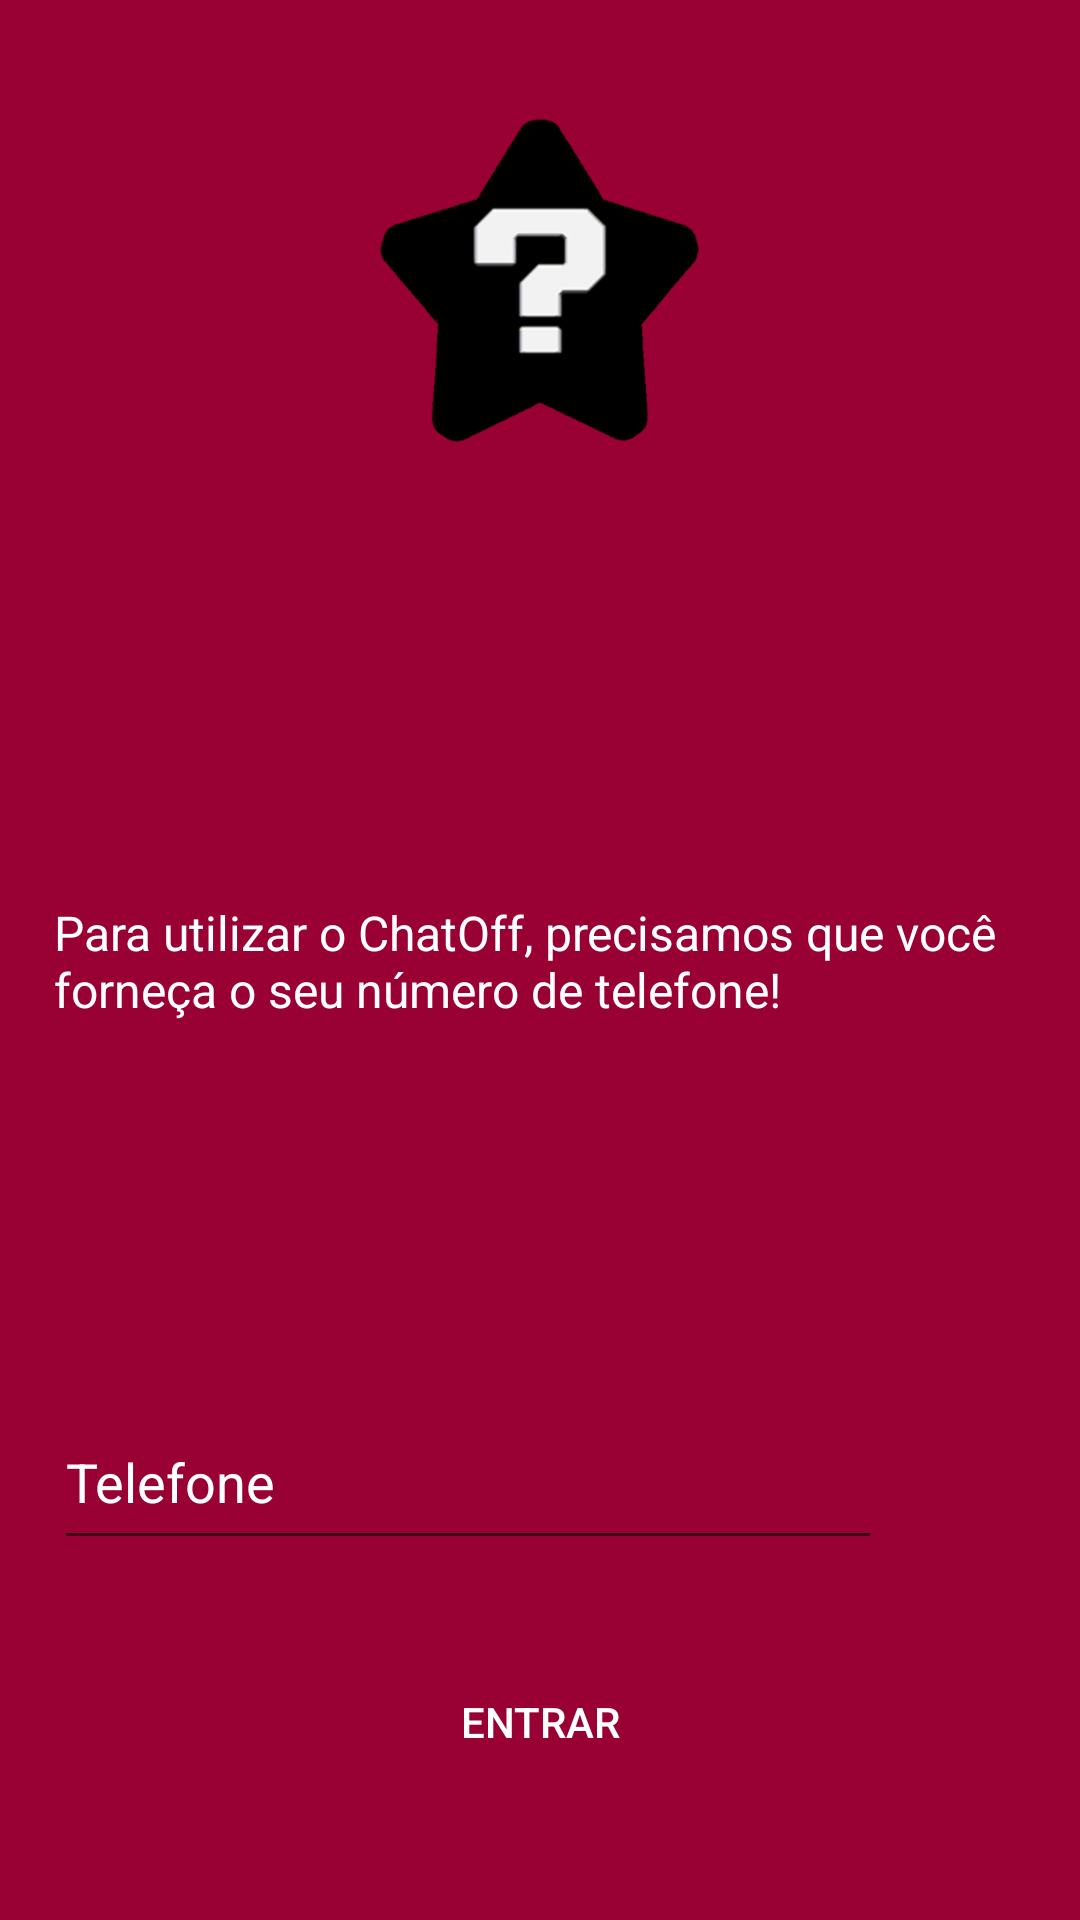

Icons on this 1080px×1920px Android screen, each with its box as {"left": x1, "top": y1, "right": x2, "bottom": y2}:
secret star: {"left": 380, "top": 119, "right": 699, "bottom": 442}
